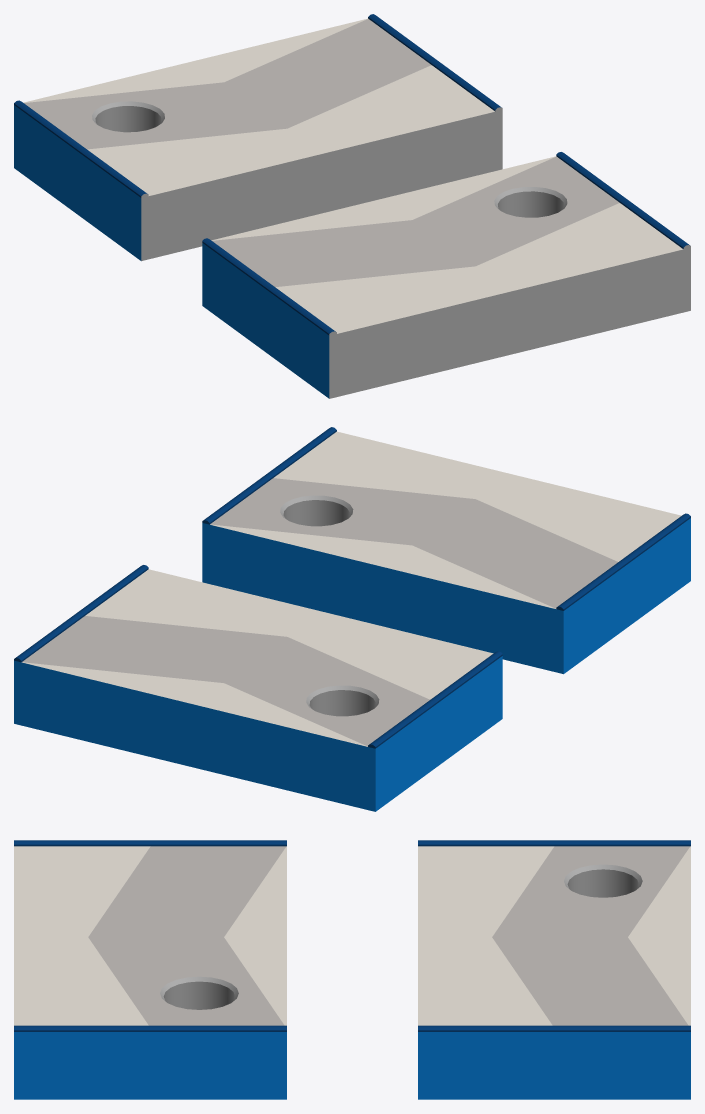
The model's file is delik.fbx.
3 views of the same model, one above another, from view 1: azimuth 30°, elevation 25°; view 2: azimuth 150°, elevation 25°; view 3: azimuth 270°, elevation 25° (orthographic). The views are drawn at different scales.
Parts seen in each view (by area): view 1: Box038, Box037; view 2: Box037, Box038; view 3: Box037, Box038.
Boxes of the visible parts, bbox=[...] form: Box038: bbox=[202, 152, 690, 398]; Box037: bbox=[14, 14, 502, 261]; Box037: bbox=[14, 565, 502, 811]; Box038: bbox=[202, 427, 690, 674]; Box037: bbox=[418, 840, 690, 1099]; Box038: bbox=[14, 840, 286, 1099].
Size of the model in its own units: 233 by 40.92 by 352.
